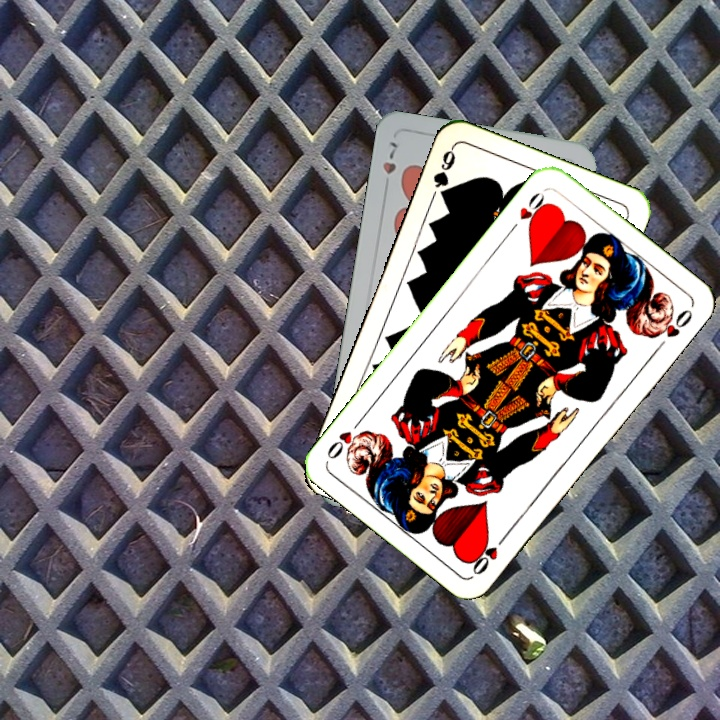G9: (429, 143, 458, 203)
H7: (378, 138, 400, 194)
HO: (505, 185, 551, 235), (468, 528, 511, 578)
